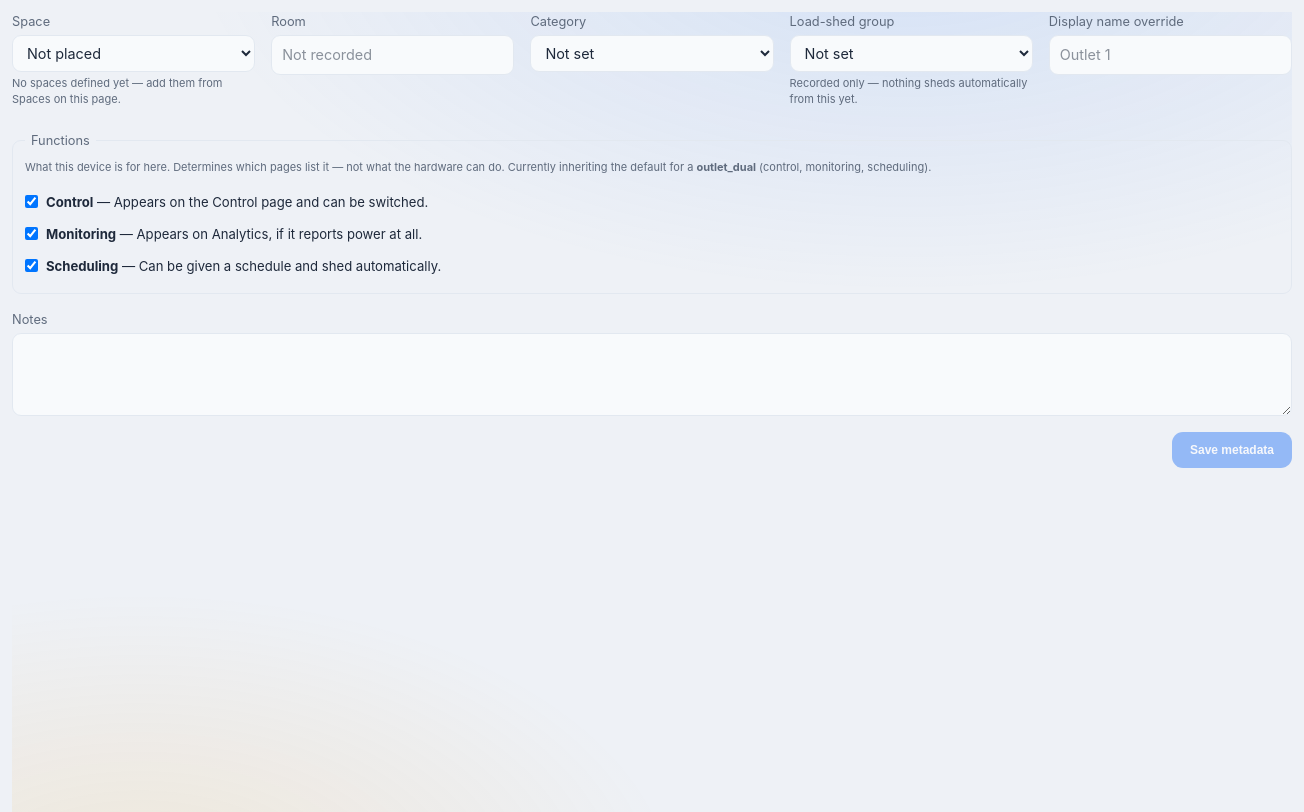
Test: DeviceMetaEditor › disables Save until a field is actually edited
Expected: the button "Save metadata" is disabled, [1172,432,1292,468]
Type "Lab 2" into the field labelled "Room" at (393, 55), box [271,35,514,75]
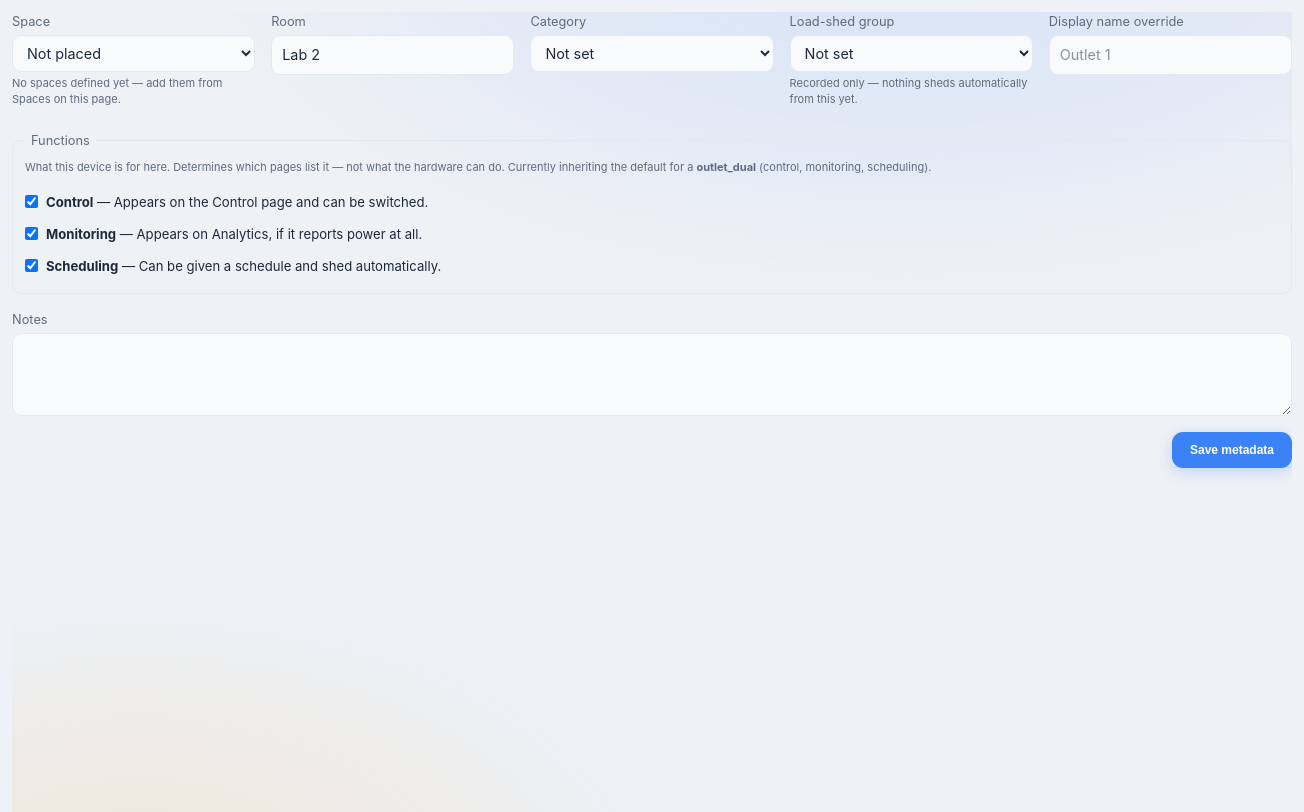
Expected: the button "Save metadata" is enabled, [1172,432,1292,468]
